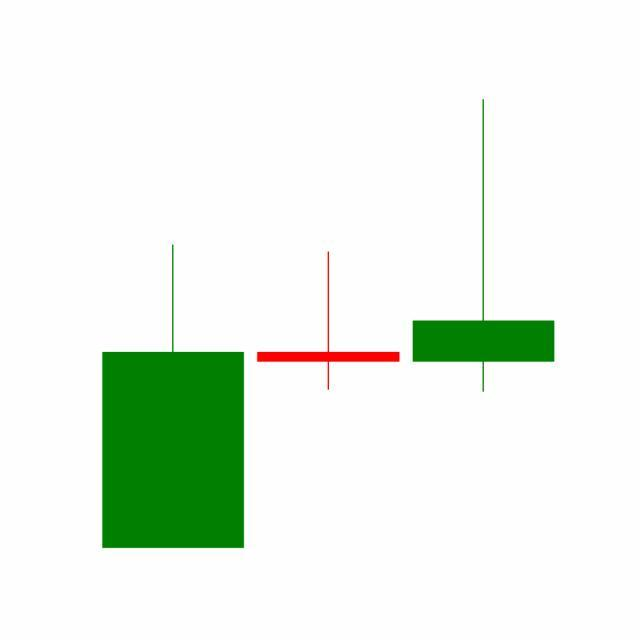Spinning Top: (250, 250, 407, 393)
